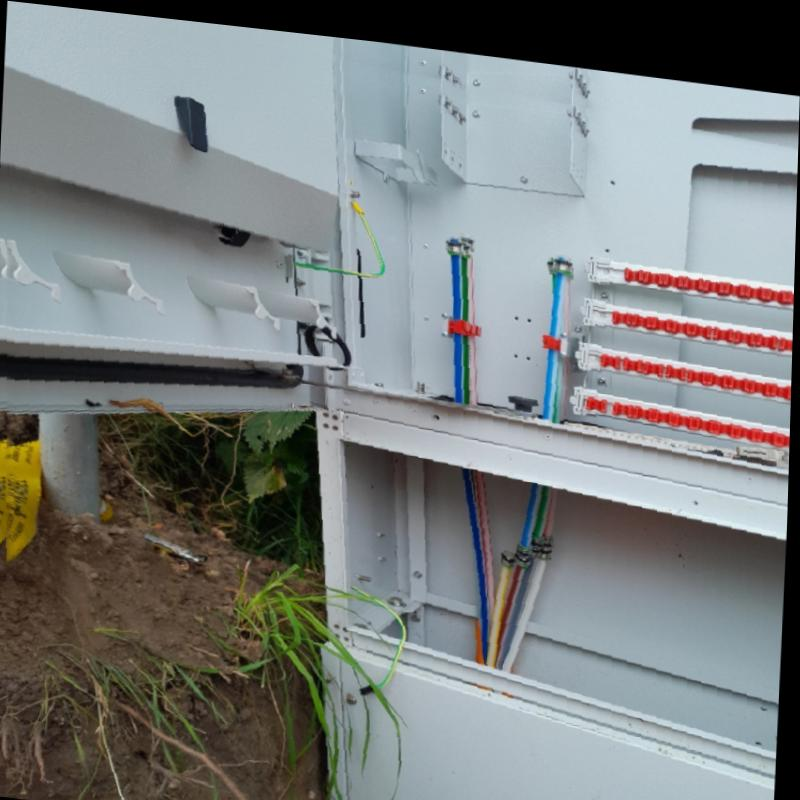NT-Gehause: (5, 1, 799, 800)
